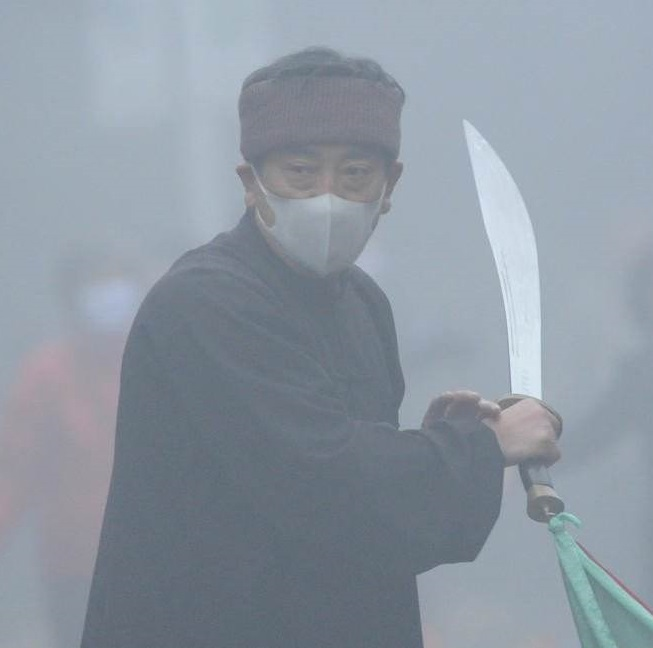person: (70, 39, 566, 648)
